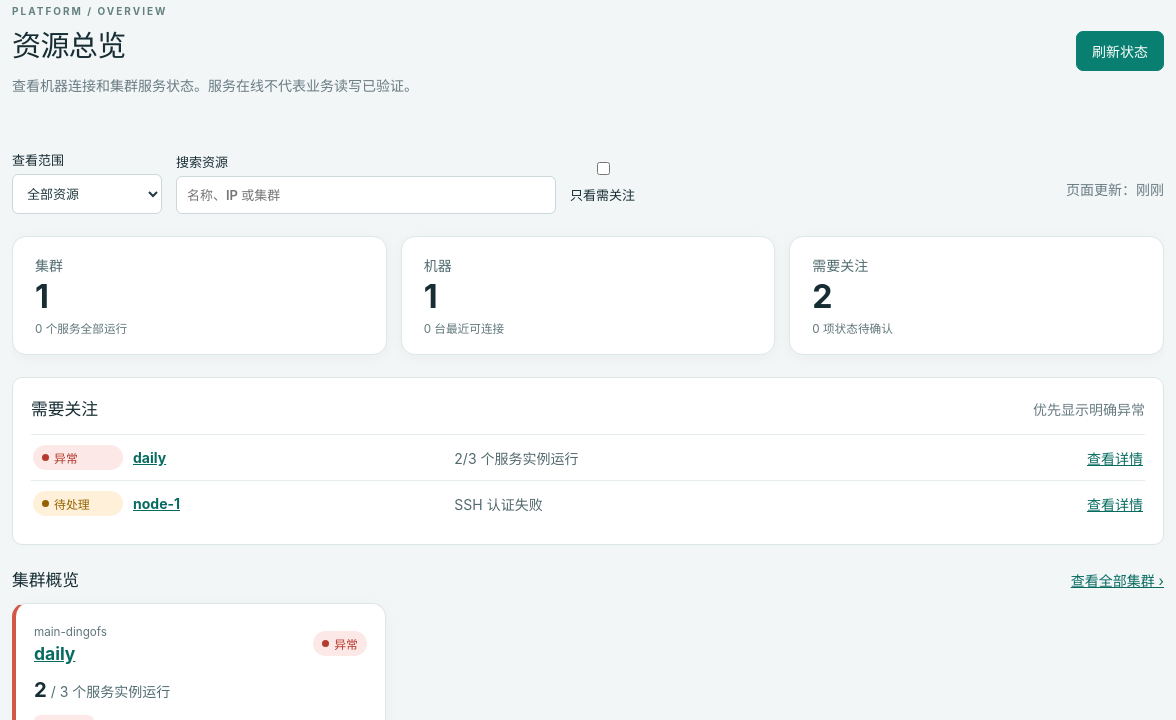
Test case: home surfaces actionable failures, links and filters
This screenshot has width=1176, height=720.
Expected: the heading "资源总览" is shown, [12, 28, 126, 63]
Type "missing" into the search field labelled "搜索资源".
click(366, 195); type("missing")  # box [176, 176, 556, 214]
(page scrolled)
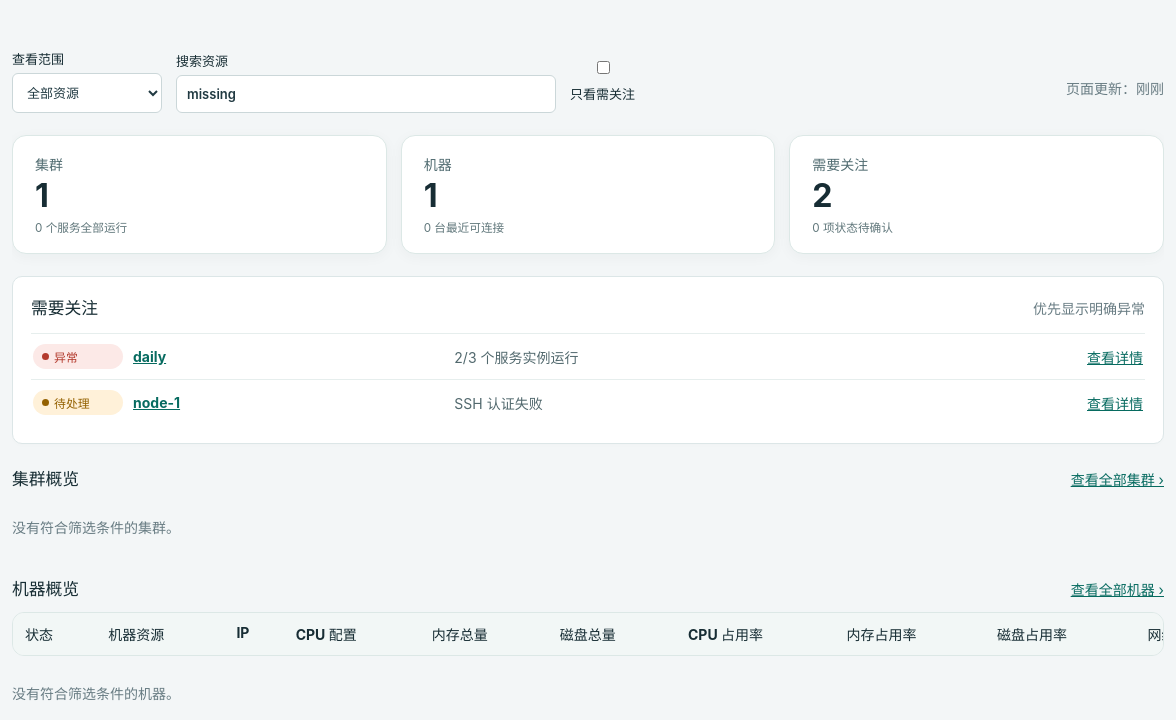
Expected: the text "没有符合筛选条件的集群。" is shown, [12, 519, 180, 536]
Expected: the text "没有符合筛选条件的机器。" is shown, [12, 685, 180, 702]
